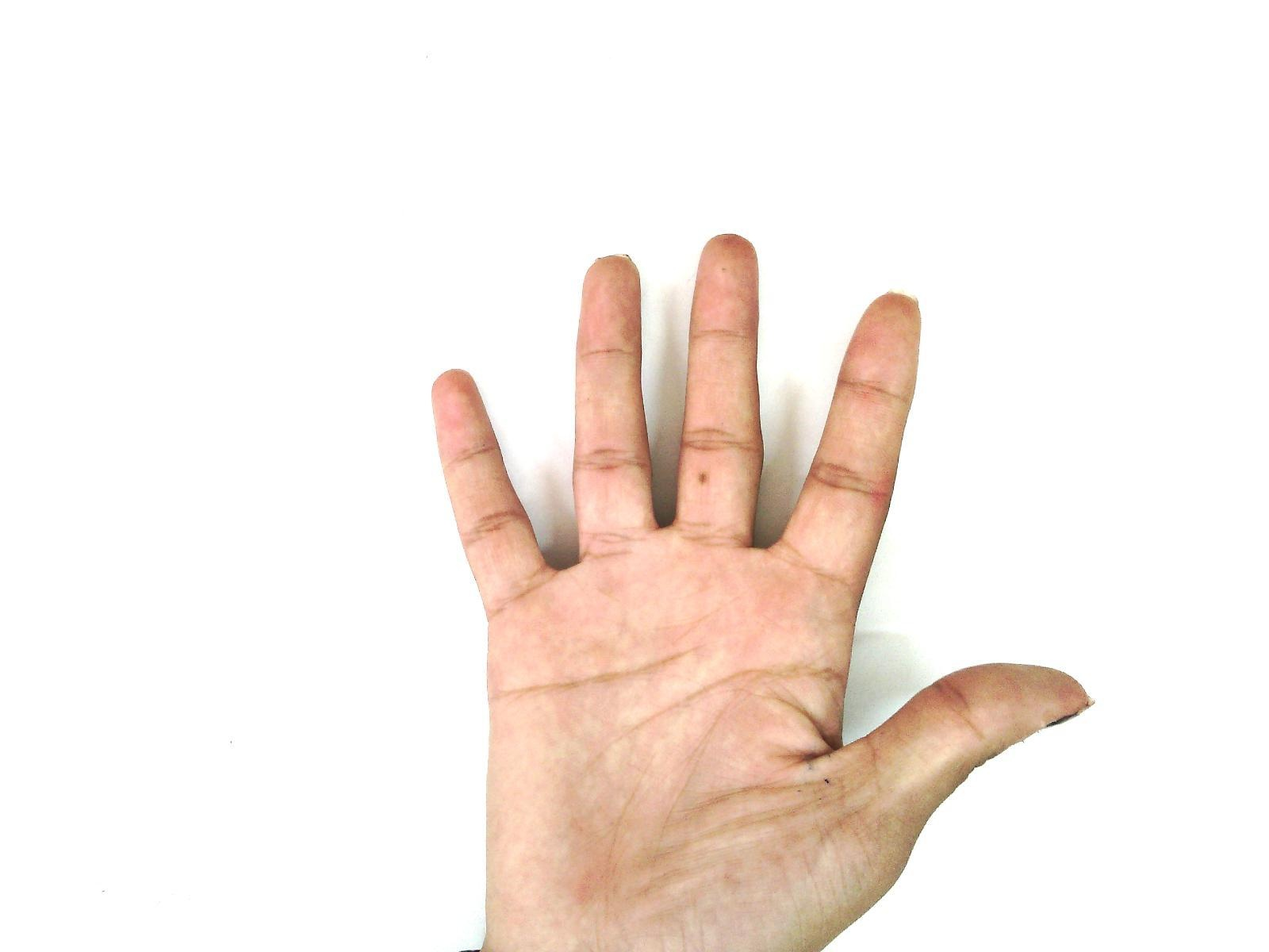open_palm: (427, 232, 1096, 951)
